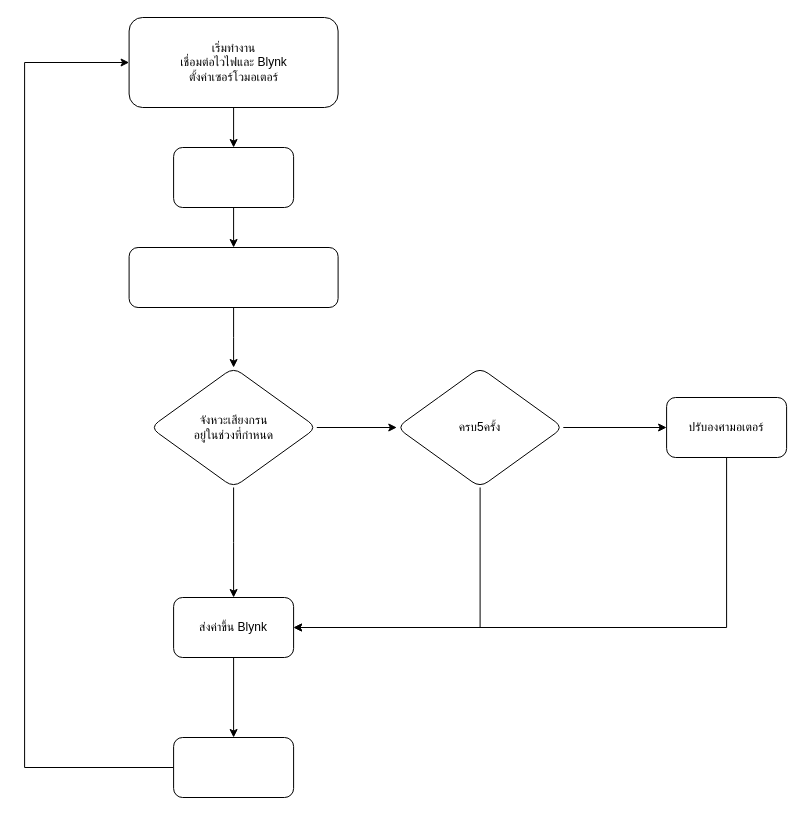
The diagram is 804 pixels wide and 815 high, and some of its shapes have lost their labels. The shapes that lost their labels are listed below. From the top down, each one's centre as x and y in pixels, then its label:
point 233,177: รับค่าจากจากไมค์ ผ่าน ADC
point 233,277: คำนวณ FFT คำนวณค่ารวมที่ความถี่ไม่เกิน 1000Hz
point 233,767: ดีเลย์ 50 ms
